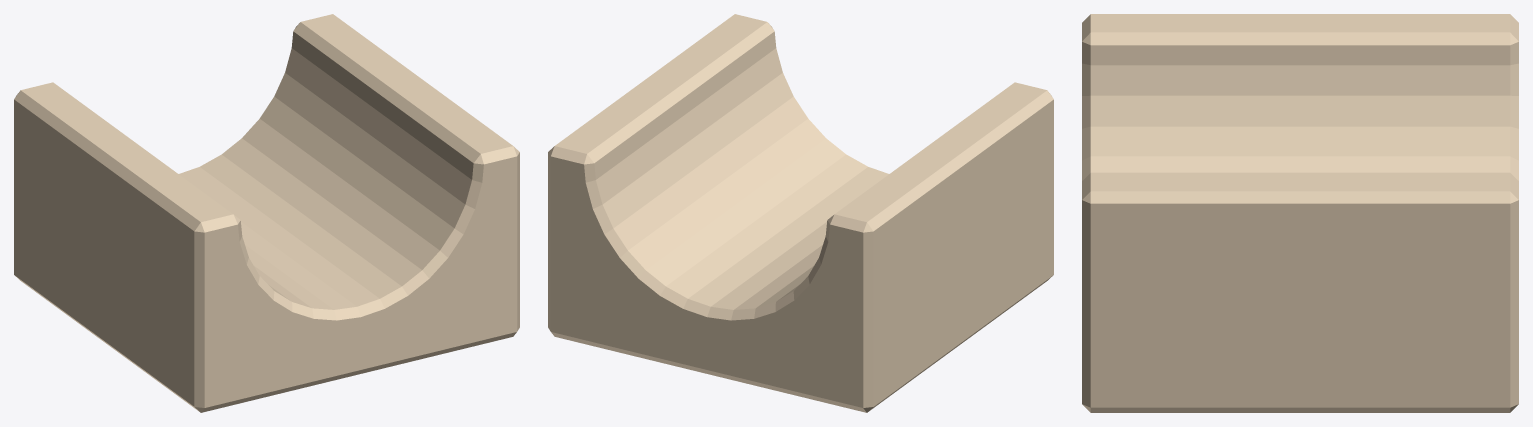
Rendered from track_straight_short_a04.glb.
The picture shows the model from 3 angles, left to right: view 1: azimuth 30°, elevation 25°; view 2: azimuth 150°, elevation 25°; view 3: azimuth 270°, elevation 25°; orthographic projection. The views are drawn at different scales.
Visible parts, largest first — view 1: Straight - Short; view 2: Straight - Short; view 3: Straight - Short.
Part boxes in pixels (box(x1,y1,x2,y2)): Straight - Short: box(14, 14, 519, 412); Straight - Short: box(548, 14, 1053, 412); Straight - Short: box(1082, 14, 1518, 412).
Bounding box in the file's own units: 2 × 1.12 × 2.
